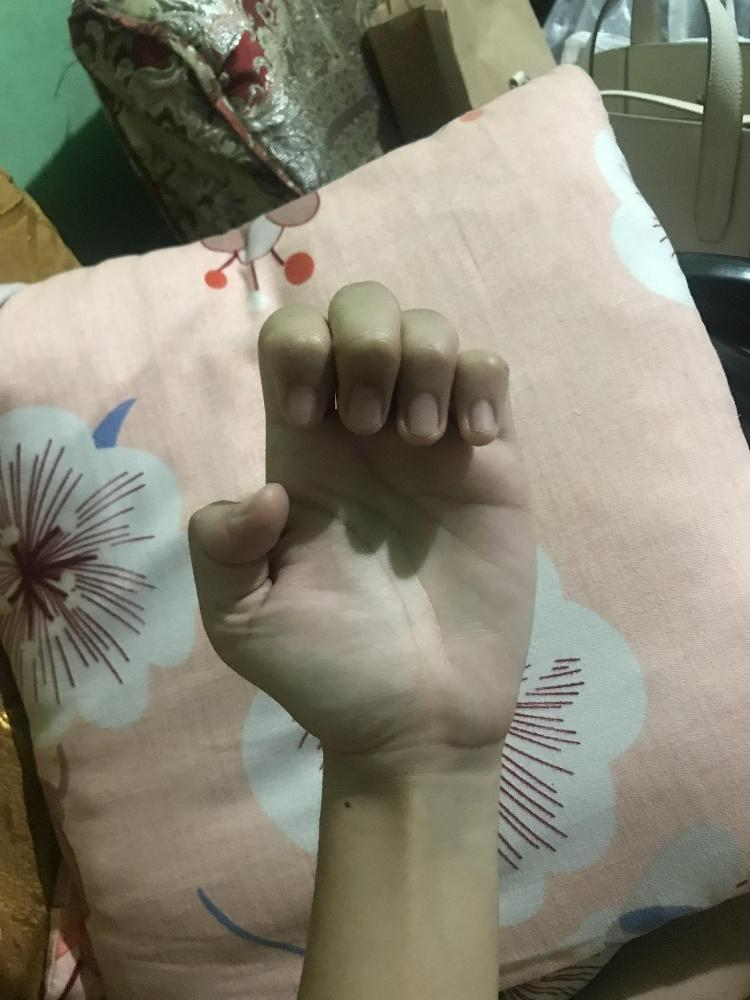e: (184, 275, 542, 766)
